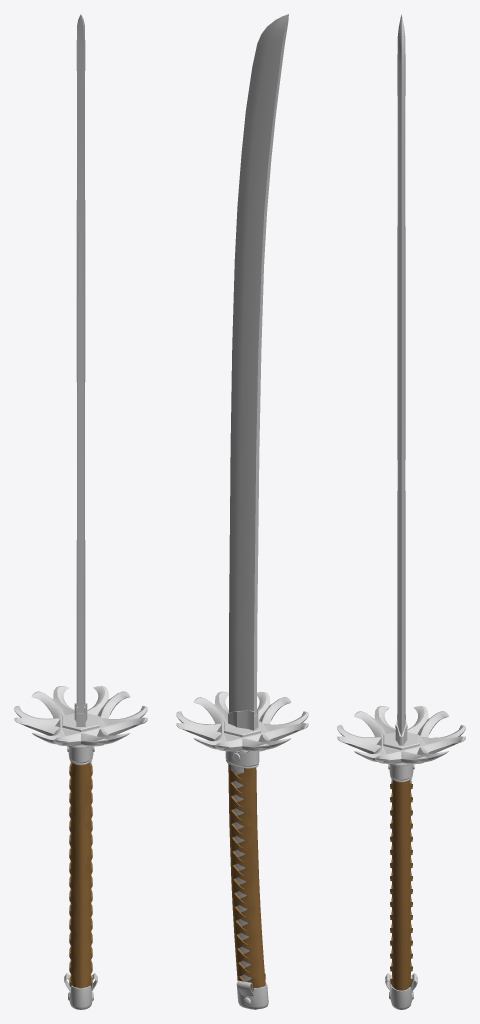
3 renders of one model, left to right at view 1: azimuth 90°, elevation 25°; view 2: azimuth 150°, elevation 25°; view 3: azimuth 270°, elevation 25°, orthographic. The views are drawn at different scales.
Parts seen in each view (by area): view 1: BladeFinale_Low, OpletkaRukoyatiFinale_Low, GardFlowerFinale_Low, HabakiFinale_Low, PostGardFinale_Low, PredgardFinale_Low; view 2: BladeFinale_Low, OpletkaRukoyatiFinale_Low, GardFlowerFinale_Low, BaseRukoyatFinale_Low, HabakiFinale_Low, DerzhaloKlinkaFinale_Low, PredgardFinale_Low, PostGardFinale_Low; view 3: BladeFinale_Low, OpletkaRukoyatiFinale_Low, GardFlowerFinale_Low, PostGardFinale_Low, HabakiFinale_Low, PredgardFinale_Low.
Boxes of the visible parts, <box> form: BladeFinale_Low: <box>76,14,85,712</box>; OpletkaRukoyatiFinale_Low: <box>69,761,92,988</box>; GardFlowerFinale_Low: <box>14,686,147,746</box>; HabakiFinale_Low: <box>68,985,93,1009</box>; PostGardFinale_Low: <box>62,713,99,731</box>; PredgardFinale_Low: <box>67,746,93,765</box>; BladeFinale_Low: <box>229,14,288,715</box>; OpletkaRukoyatiFinale_Low: <box>228,764,265,991</box>; GardFlowerFinale_Low: <box>176,691,308,751</box>; BaseRukoyatFinale_Low: <box>232,781,253,993</box>; HabakiFinale_Low: <box>236,982,268,1009</box>; DerzhaloKlinkaFinale_Low: <box>228,708,258,730</box>; PredgardFinale_Low: <box>225,751,259,768</box>; PostGardFinale_Low: <box>224,720,260,737</box>; BladeFinale_Low: <box>397,14,405,735</box>; OpletkaRukoyatiFinale_Low: <box>390,778,412,990</box>; GardFlowerFinale_Low: <box>337,706,465,764</box>; PostGardFinale_Low: <box>383,732,419,750</box>; HabakiFinale_Low: <box>389,987,413,1009</box>; PredgardFinale_Low: <box>389,764,413,782</box>.
Size of the model in its own units: 0.2333 by 2 by 0.2396.
